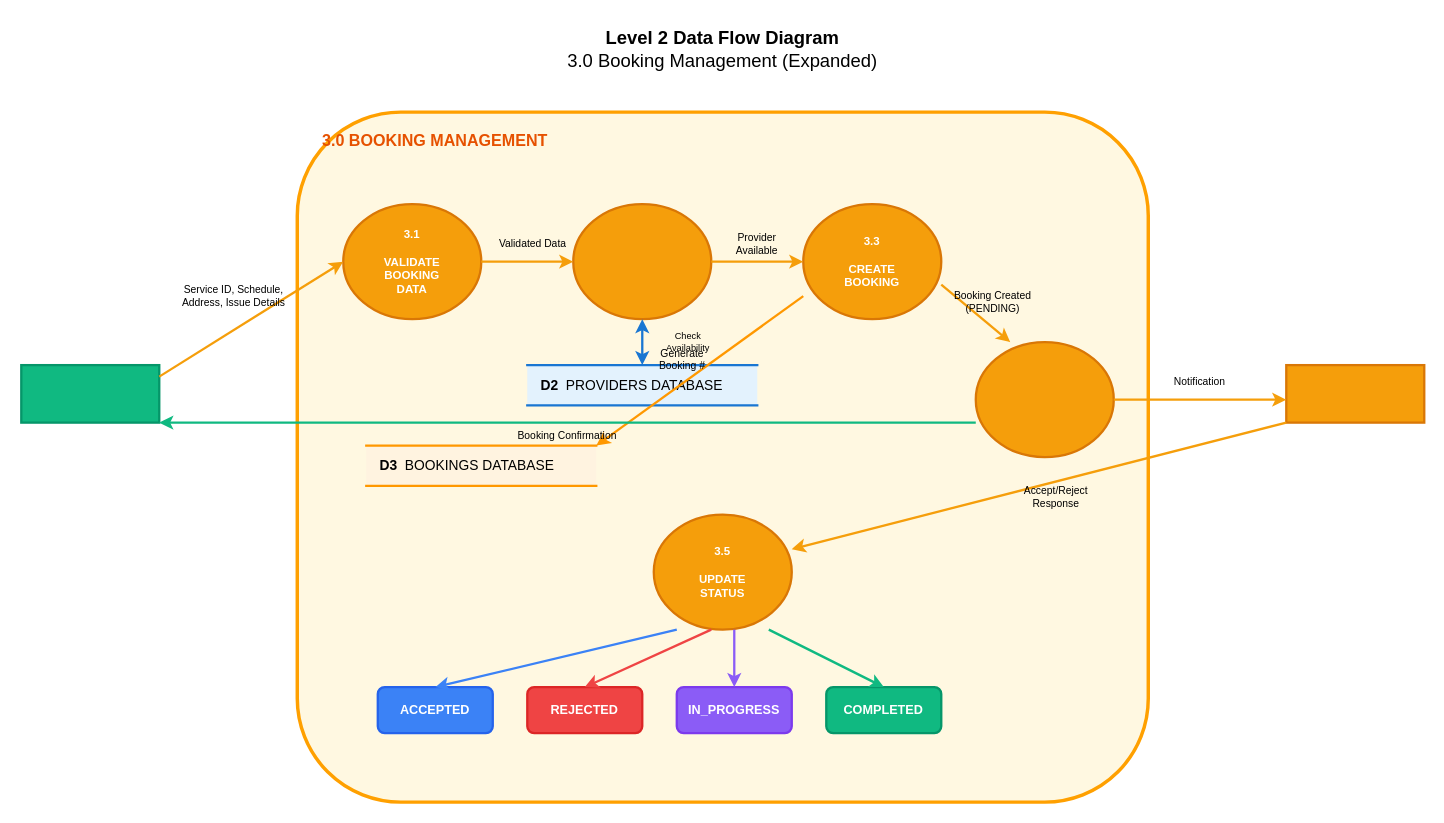
Image size: 1444x823. Some labels were removed from this diagram. The centre of each missing label's shape, as x and y in pixels:
"3.2 CHECK AVAILABILITY" belongs at [642,261].
"3.4 NOTIFY PROVIDER" belongs at [1044,399].
"👤 CUSTOMER" belongs at [90,393].
"👷 PROVIDER" belongs at [1355,393].
